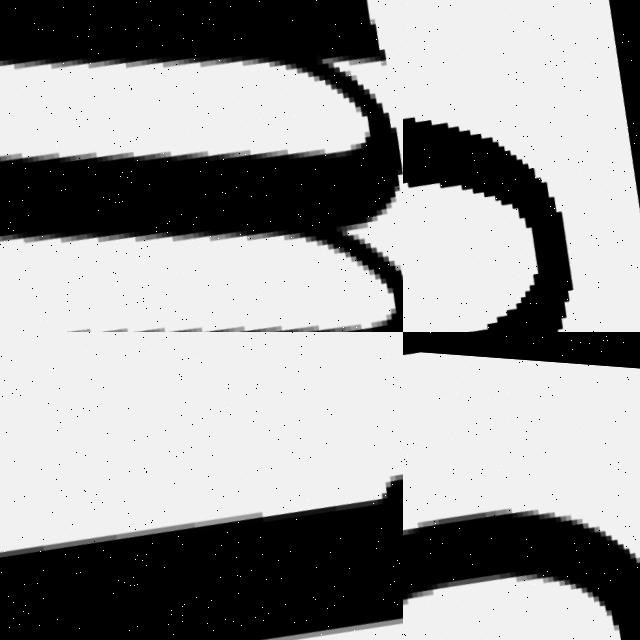0: (403, 32, 629, 332)
G: (403, 437, 640, 640)
L: (0, 411, 403, 640)
M: (0, 0, 403, 332)
